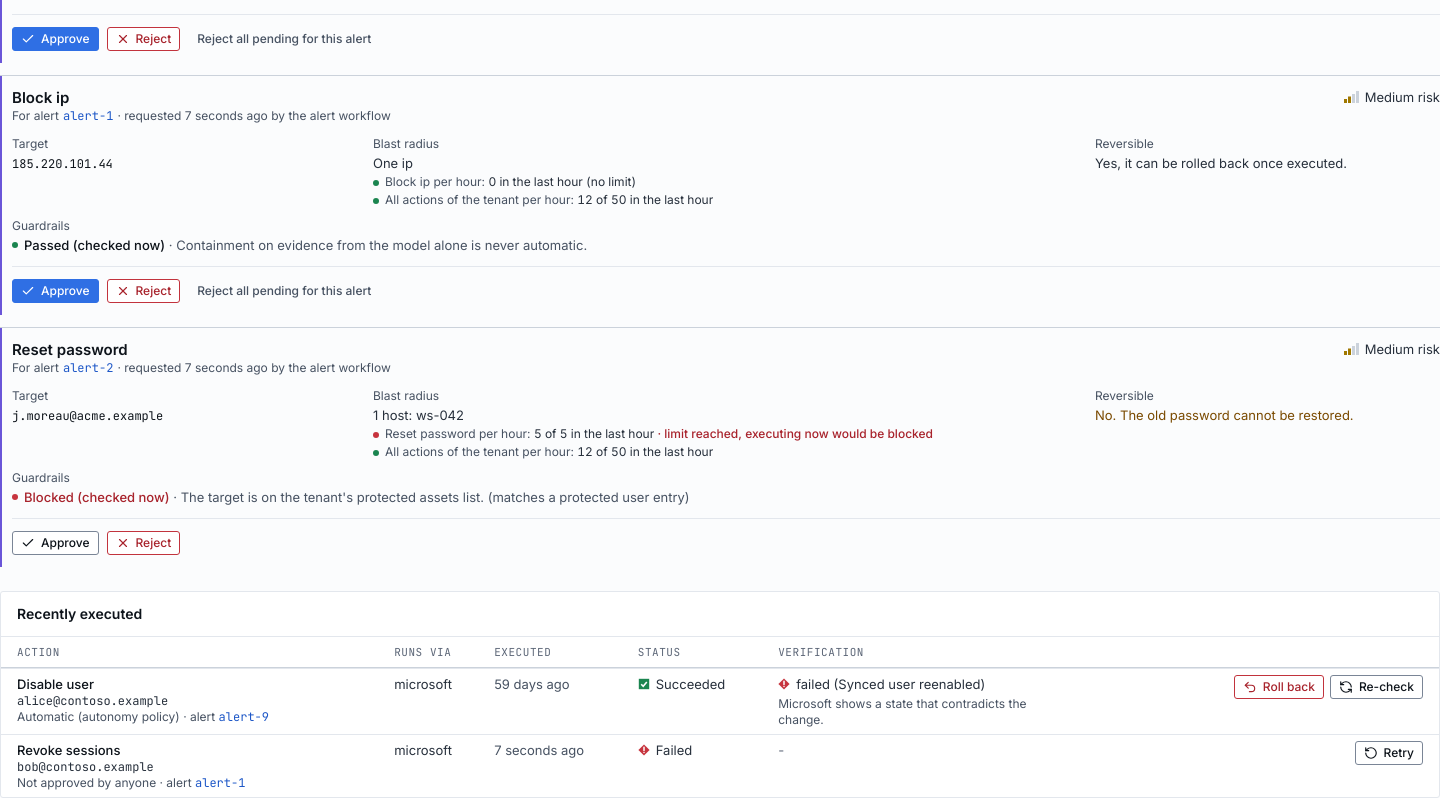
Test case: ApprovalsPage: recently executed › shows status and verification, and an admin rolls back and retries
Later steps or results of the test are not shown.
(page scrolled)
Check: the text "failed (Synced user reenabled)" is shown, box [778,675,985,693]
Check: the text "Automatic (autonomy policy)" is shown, box [17,709,180,724]
Click the button "Roll back".
click(1279, 687)  # box [1234,675,1324,699]
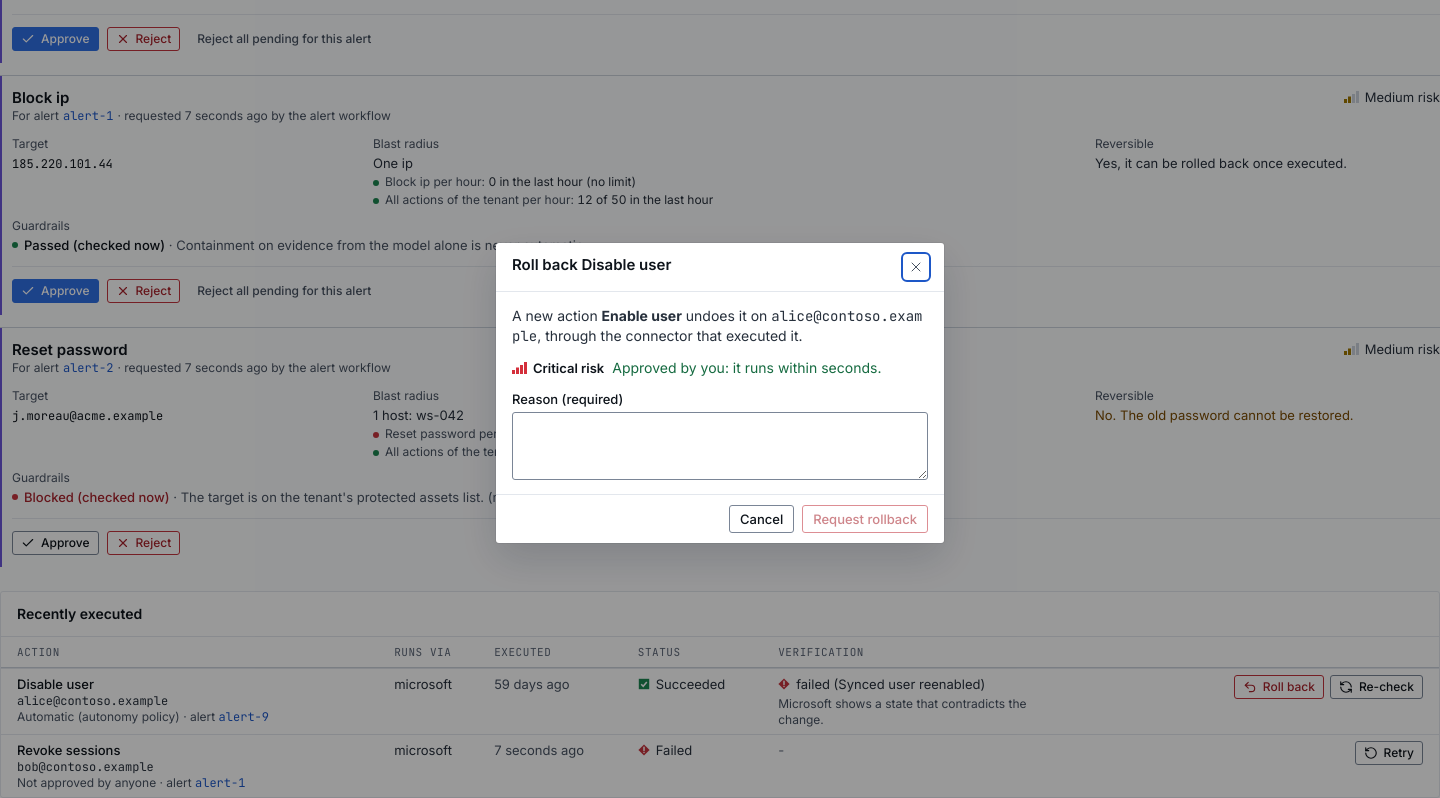
Type "false positive" into the text box labelled "Reason (required)".
click(720, 446); type("false positive")  # box [512,412,928,480]
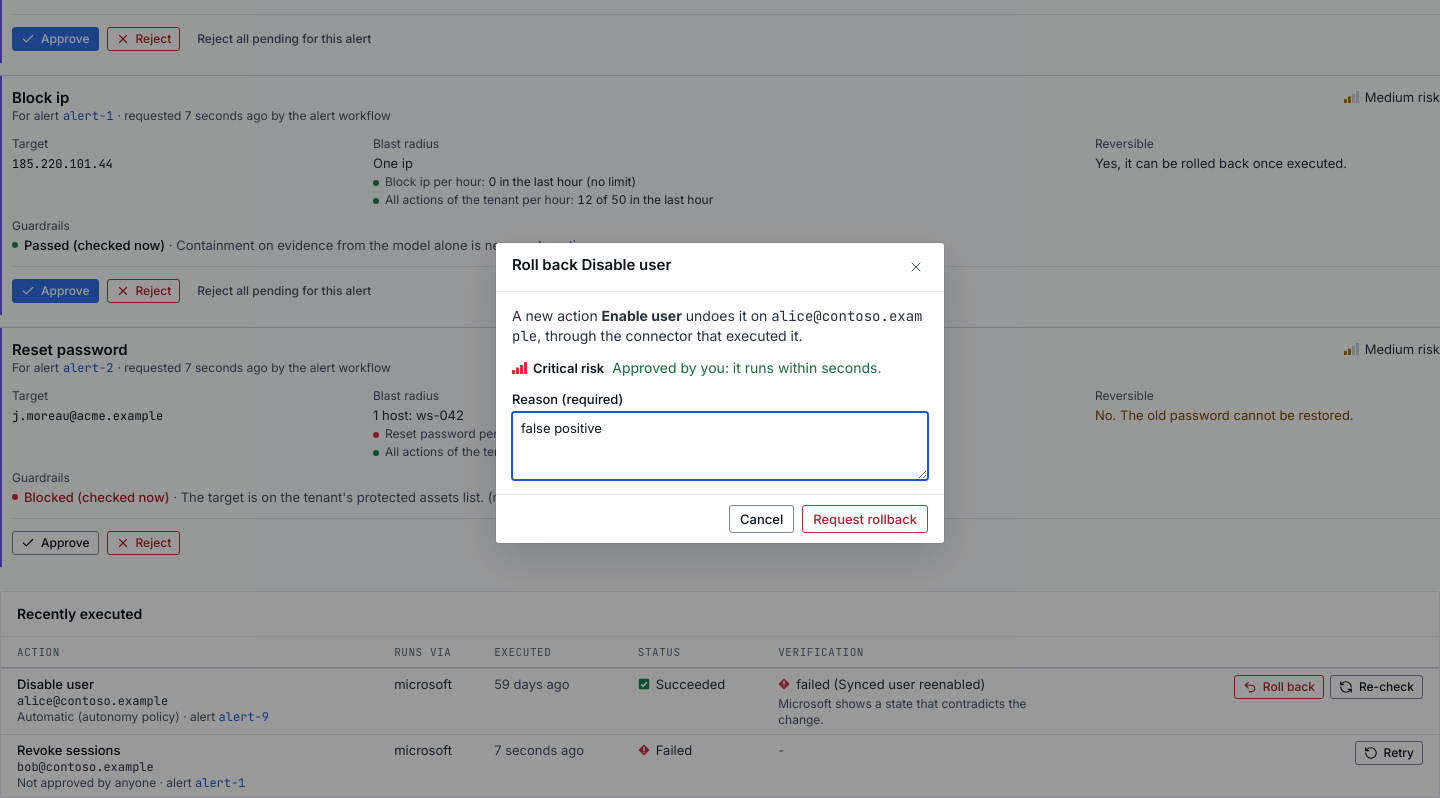
Click the button "Request rollback".
click(865, 519)  # box [802,505,928,533]
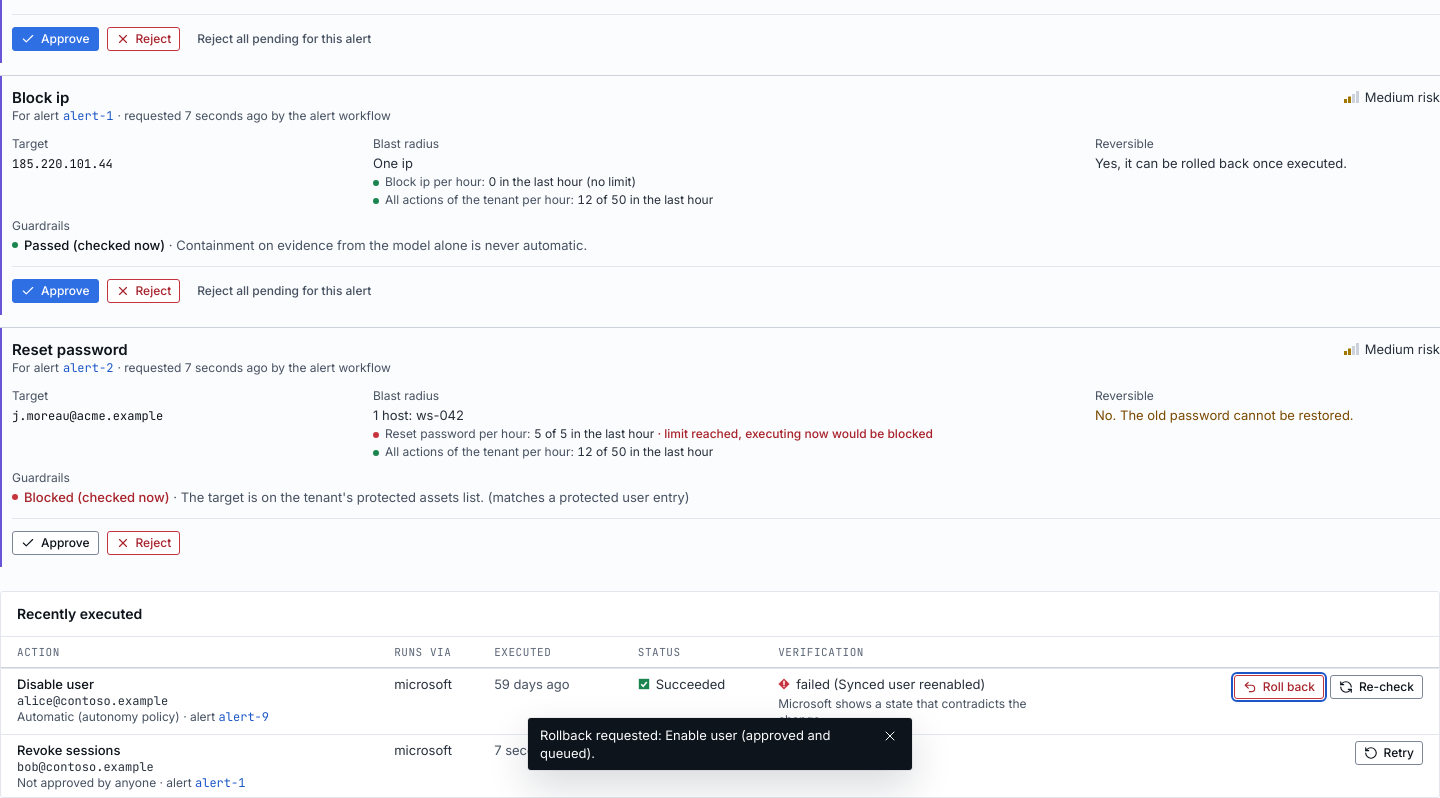
Check: the text "Rollback requested: Enable user (approved and queued)." is shown, box [540,726,872,762]
